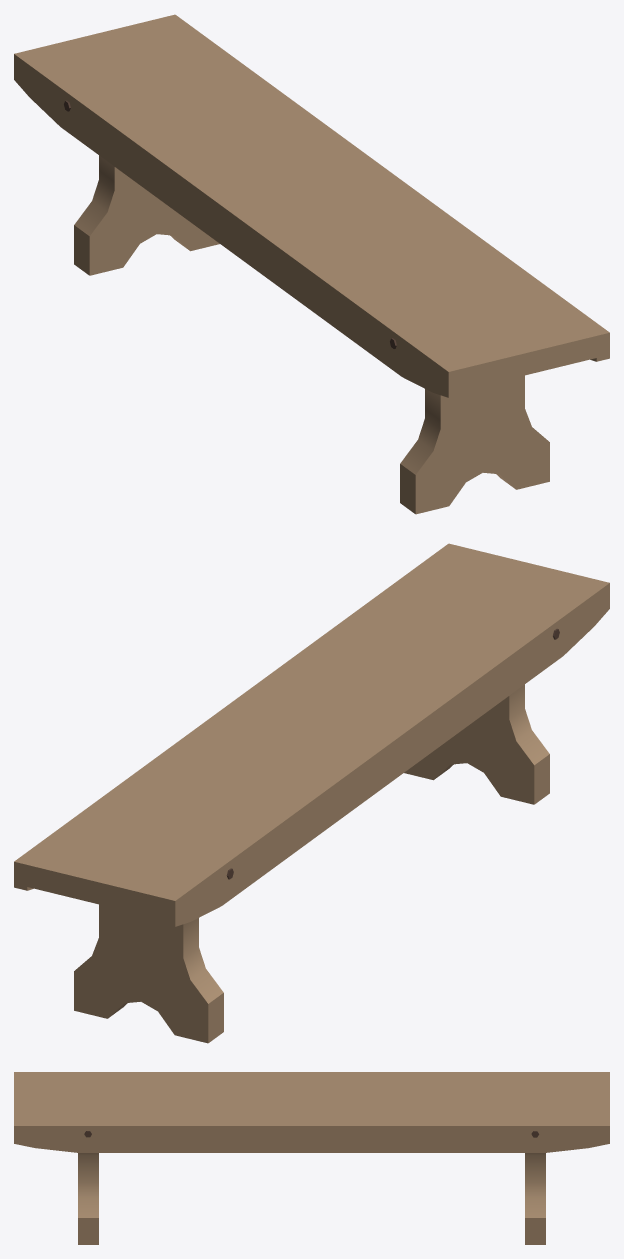
File: Bench.fbx
3 views of the same model, one above another, from view 1: azimuth 30°, elevation 25°; view 2: azimuth 150°, elevation 25°; view 3: azimuth 270°, elevation 25° (orthographic). The views are drawn at different scales.
Parts seen in each view (by area): view 1: Bench; view 2: Bench; view 3: Bench.
Part boxes in pixels (x1=…): Bench: x1=14, y1=14, x2=609, y2=514; Bench: x1=14, y1=543, x2=609, y2=1043; Bench: x1=14, y1=1072, x2=609, y2=1244.
Size of the model in its own units: 61.2 by 63.92 by 280.
